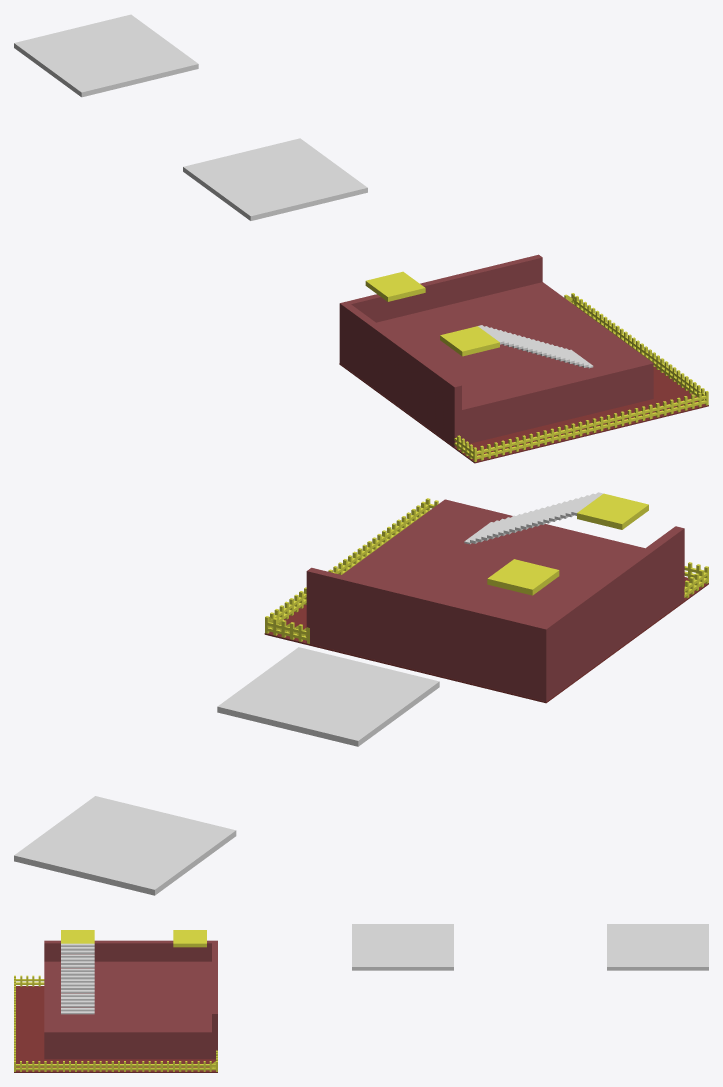
File: Floor.fbx
3 renders of one model, top to bottom at view 1: azimuth 30°, elevation 25°; view 2: azimuth 150°, elevation 25°; view 3: azimuth 270°, elevation 25°, orthographic. The views are drawn at different scales.
Visible parts, largest first — view 1: Cube.001, Cube.009, Cube.010, Cube.007, Cube, Cube.008; view 2: Cube.001, Cube.009, Cube.010, Cube.007, Cube.008, Cube; view 3: Cube.001, Cube.009, Cube.010, Cube, Cube.007, Cube.008.
Boxes of the visible parts, <box> form: Cube.001: <box>339,254,653,447</box>; Cube.009: <box>183,138,367,220</box>; Cube.010: <box>14,14,198,97</box>; Cube.007: <box>365,271,708,460</box>; Cube: <box>339,363,708,463</box>; Cube.008: <box>478,325,593,368</box>; Cube.001: <box>306,499,684,701</box>; Cube.009: <box>217,647,439,746</box>; Cube.010: <box>14,796,236,895</box>; Cube.007: <box>265,493,704,643</box>; Cube.008: <box>464,492,603,544</box>; Cube: <box>264,577,708,703</box>; Cube.001: <box>44,940,217,1059</box>; Cube.009: <box>352,924,453,970</box>; Cube.010: <box>607,924,708,970</box>; Cube: <box>14,986,217,1072</box>; Cube.007: <box>14,930,217,1071</box>; Cube.008: <box>61,943,94,1014</box>.
Bounding box in the file's own units: 10000 × 3449 × 34064.
